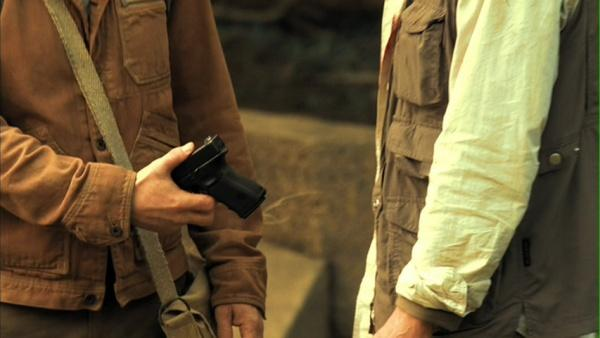Gun: (168, 132, 267, 219)
